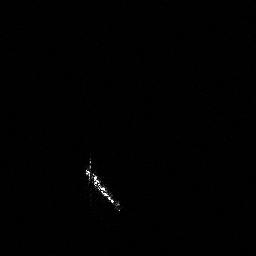ship: (82, 152, 124, 214)
